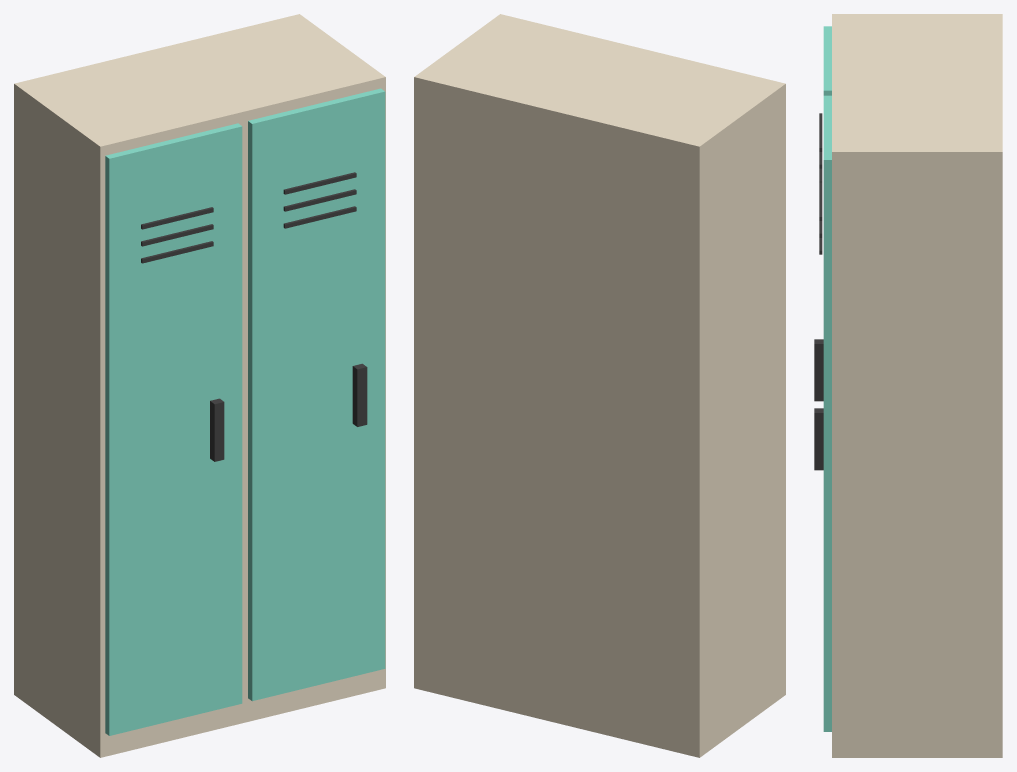
The picture shows the model from 3 angles, left to right: view 1: azimuth 30°, elevation 25°; view 2: azimuth 150°, elevation 25°; view 3: azimuth 270°, elevation 25°; orthographic projection.
Parts seen in each view (by area): view 1: Case, Door.001, Door, Handle.001, Handle; view 2: Case; view 3: Case, Door.001, Door, Handle, Handle.001.
Part boxes in pixels (x1,y1,x2,y2): Case: [14, 14, 385, 757]; Door.001: [248, 88, 385, 701]; Door: [105, 123, 242, 735]; Handle.001: [352, 363, 367, 426]; Handle: [210, 398, 224, 461]; Case: [414, 14, 785, 757]; Case: [832, 14, 1002, 757]; Door.001: [823, 95, 831, 731]; Door: [823, 26, 831, 95]; Handle: [814, 339, 823, 401]; Handle.001: [814, 408, 823, 470].
Bounding box in the file's own units: 88 × 180 × 50.75.
